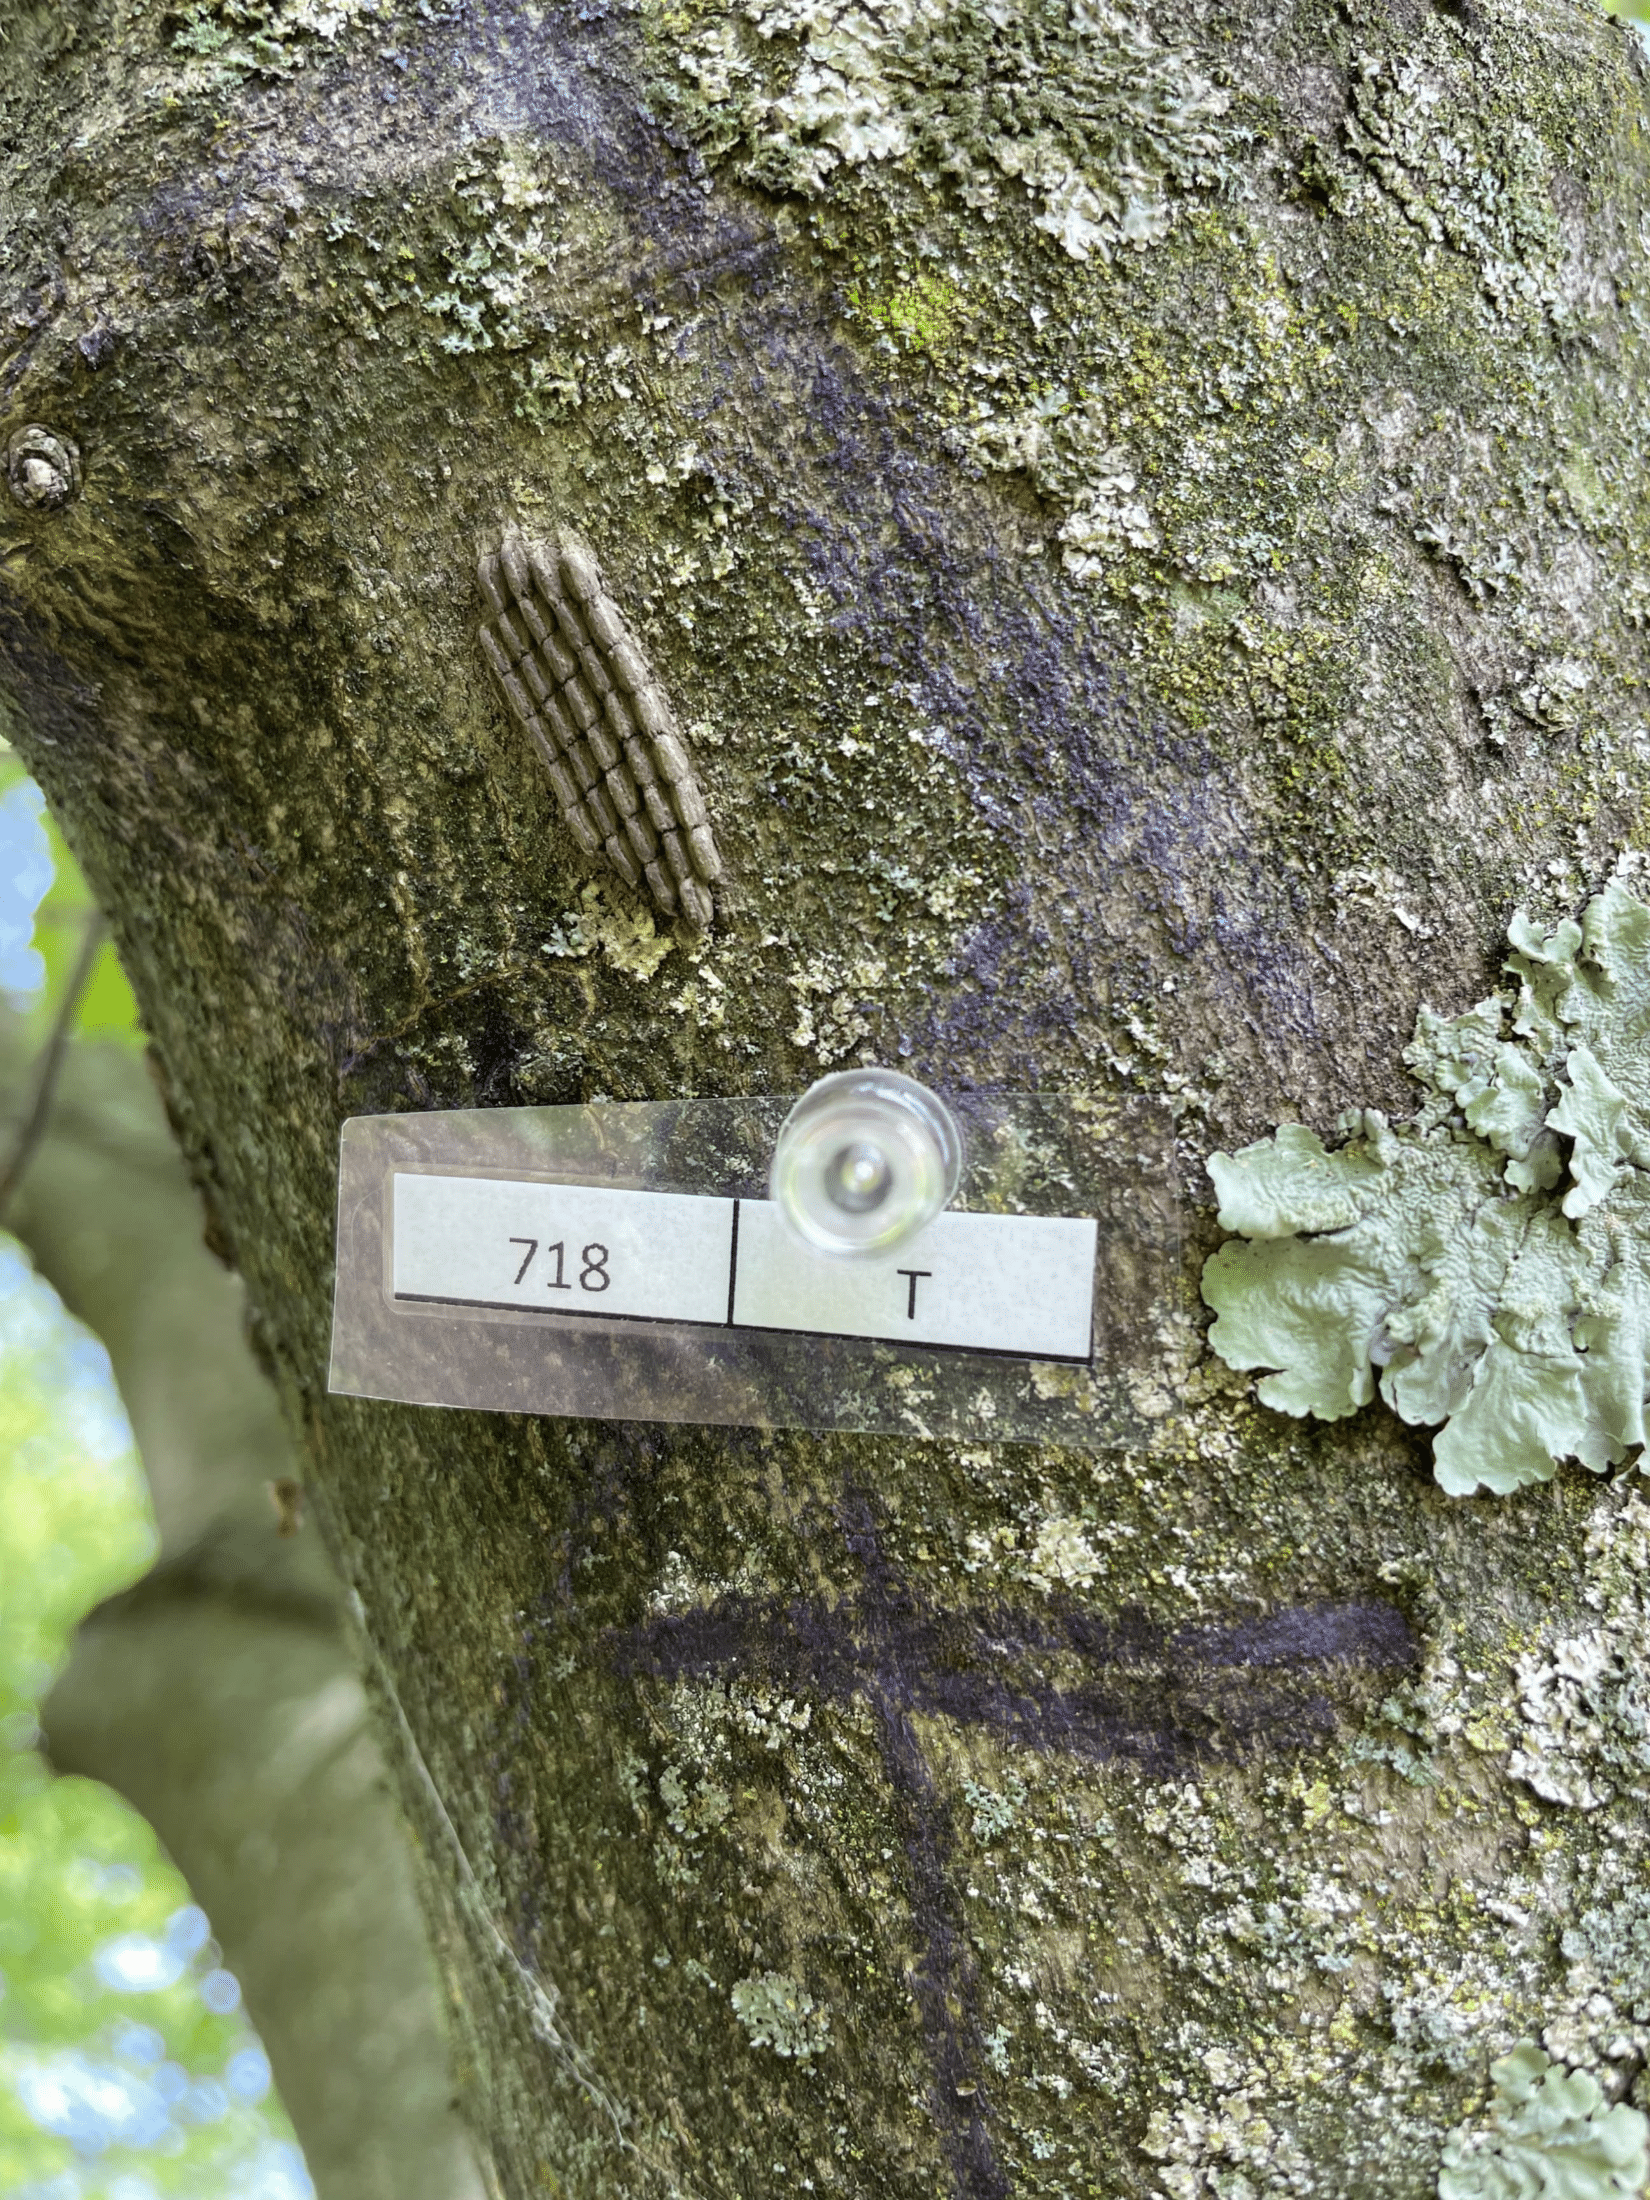egg masses: (444, 509, 726, 968)
